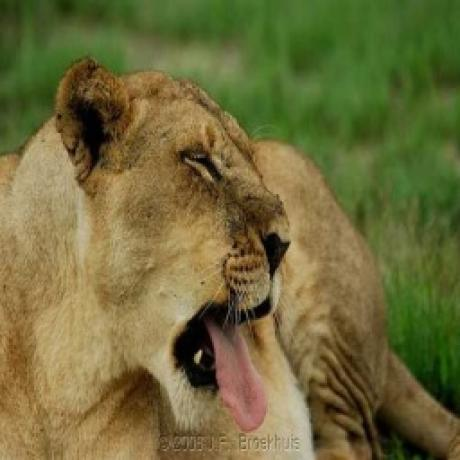Lion: (0, 52, 406, 460)
